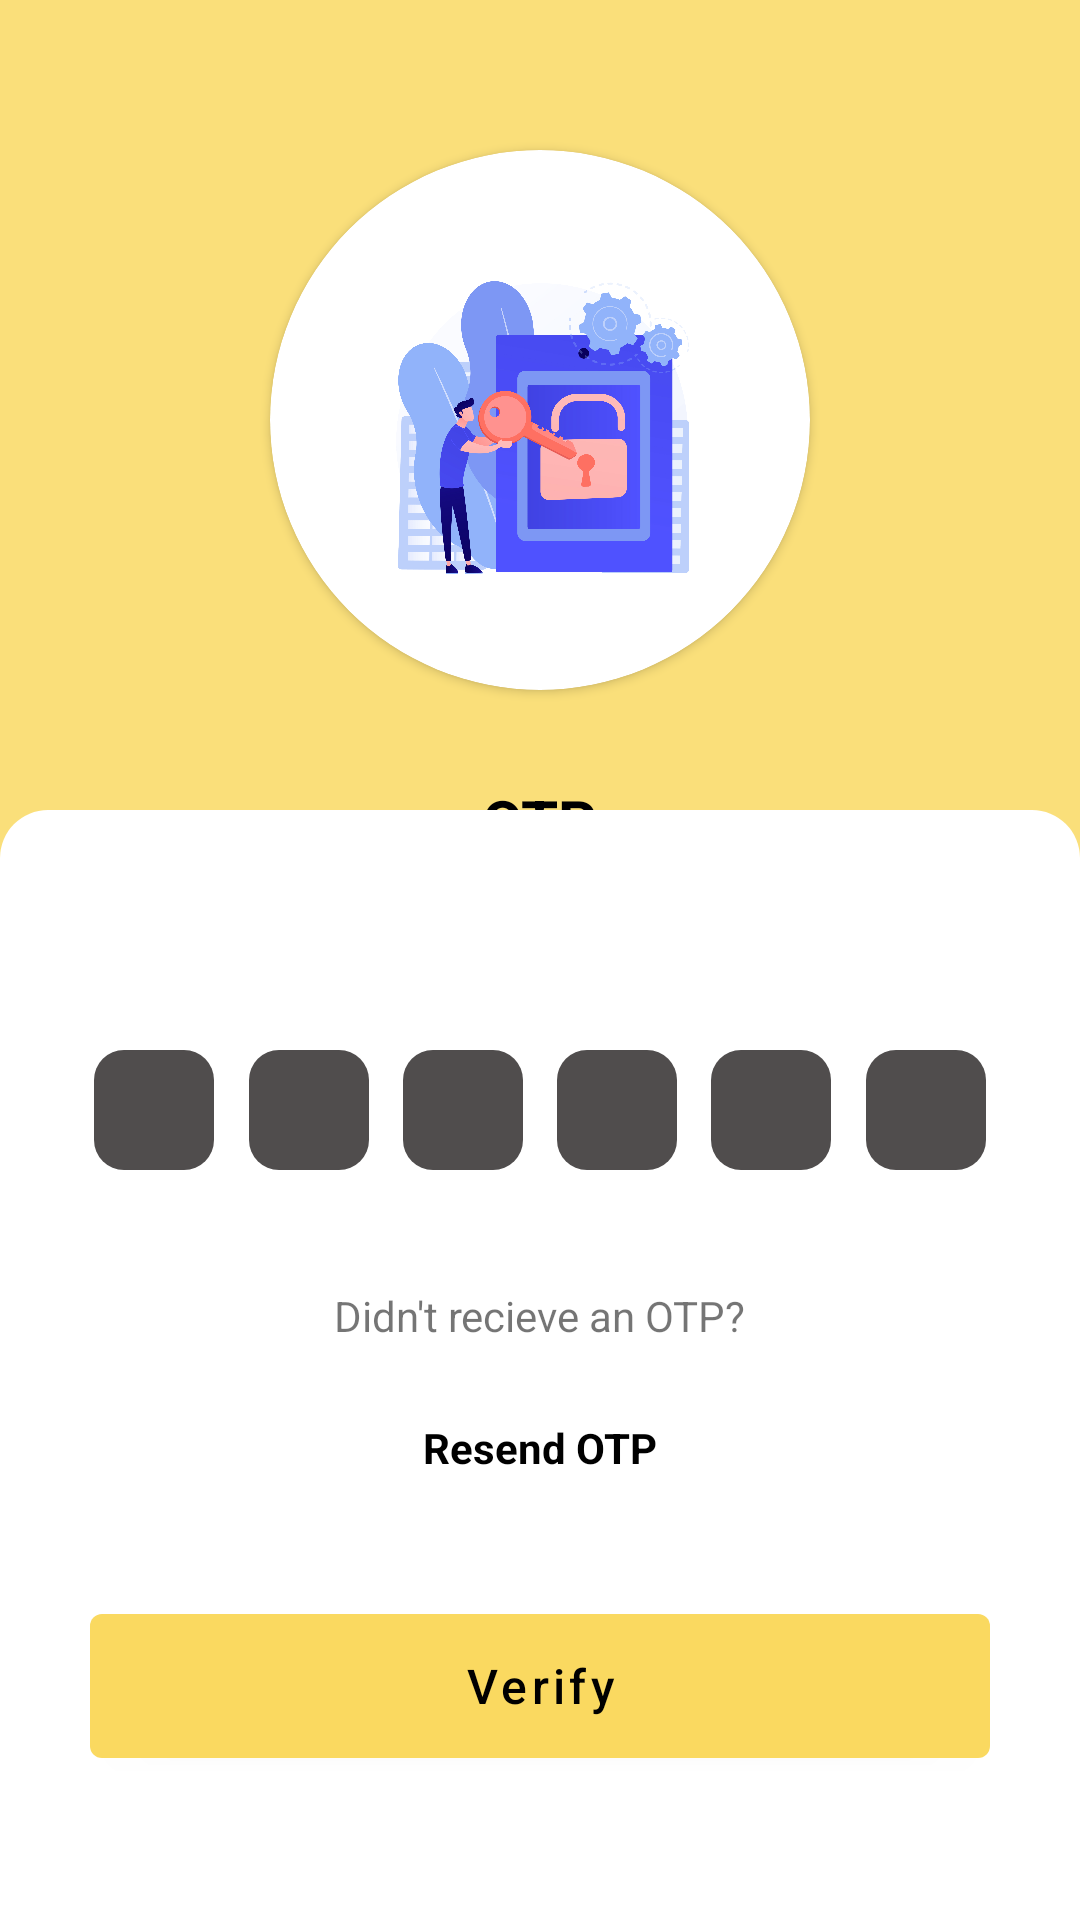

Where to tap for icons on this 1080*1920 app screen, as [x,y]:
otpvector: [543,427]
